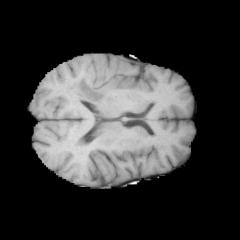glioma: (65, 54, 132, 104)
